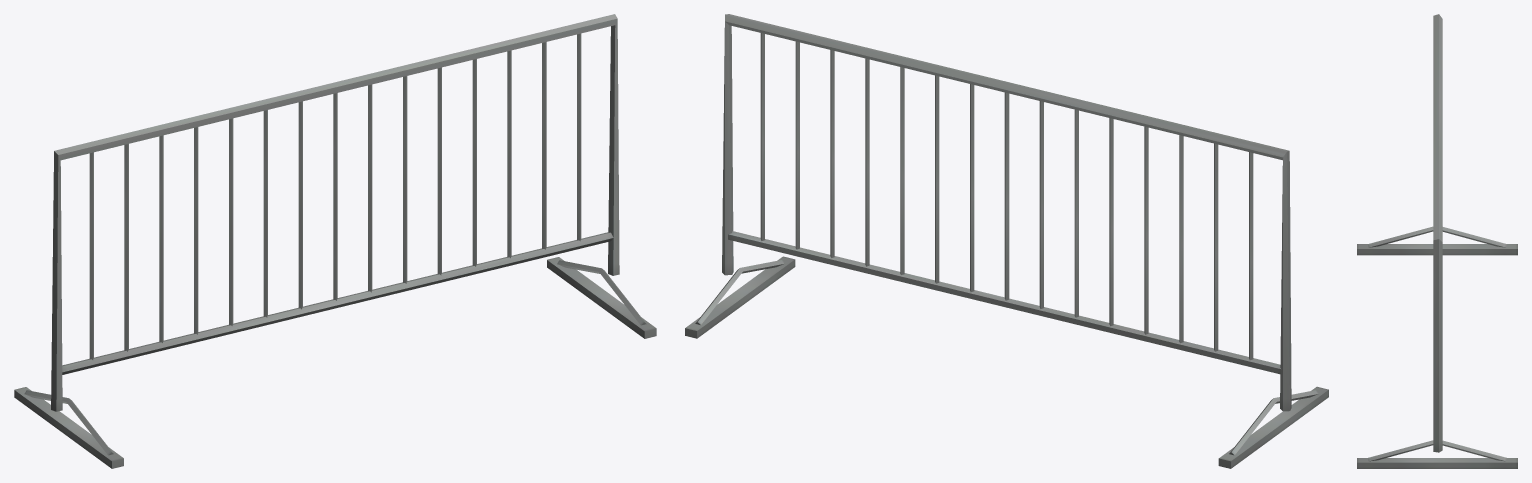
The model's file is crowd_barrier.obj.
3 views of the same model, side by side, from view 1: azimuth 30°, elevation 25°; view 2: azimuth 150°, elevation 25°; view 3: azimuth 270°, elevation 25° (orthographic). The views are drawn at different scales.
Parts seen in each view (by area): view 1: crowd_barrier; view 2: crowd_barrier; view 3: crowd_barrier.
Part boxes in pixels (box(x1,y1,x2,y2)): crowd_barrier: box(14, 14, 656, 468); crowd_barrier: box(685, 14, 1328, 468); crowd_barrier: box(1357, 14, 1517, 468).
Size of the model in its own units: 2.34 by 1.12 by 0.7.
Materials: 1 (1 with a texture image).
